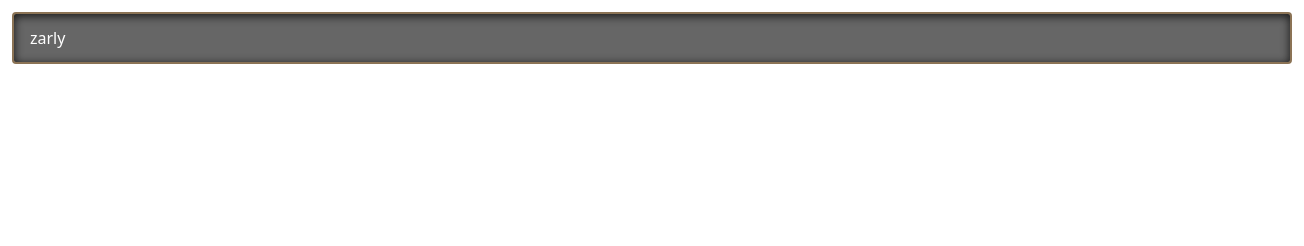
Test case: allows selecting a live suggestion with the keyboard
The width and height of the screenshot is (1304, 246).
Focus the dropdown named "Character name" at (652, 38), box [12,12,1292,64]
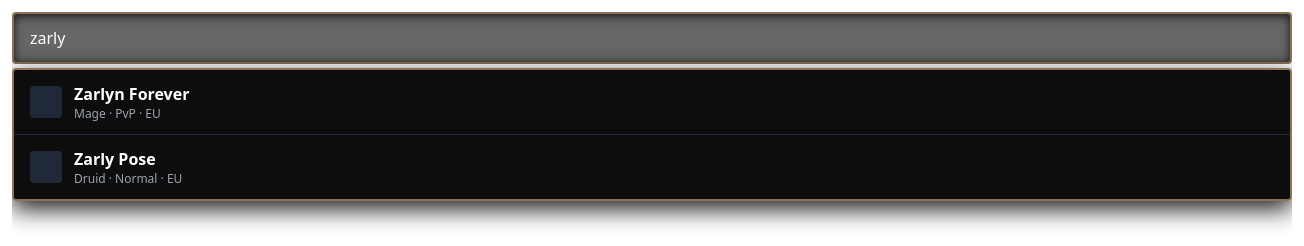
Expected: the text "Mage · PvP · EU" is shown, [74,105,161,122]
Press ArrowDown in the dropdown named "Character name", box [12,12,1292,64]
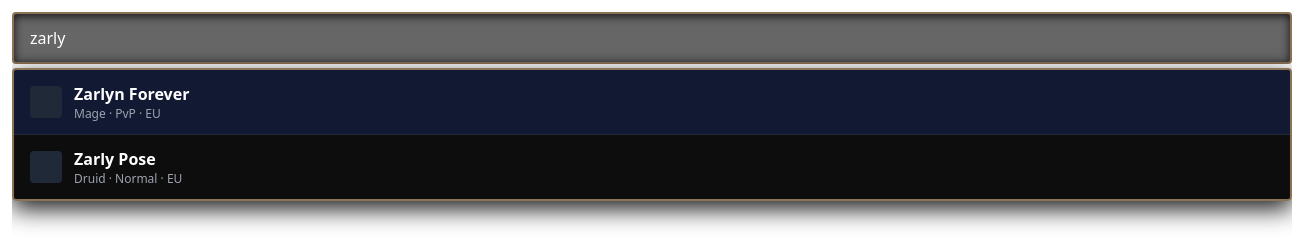
Press ArrowDown in the dropdown named "Character name", box [12,12,1292,64]
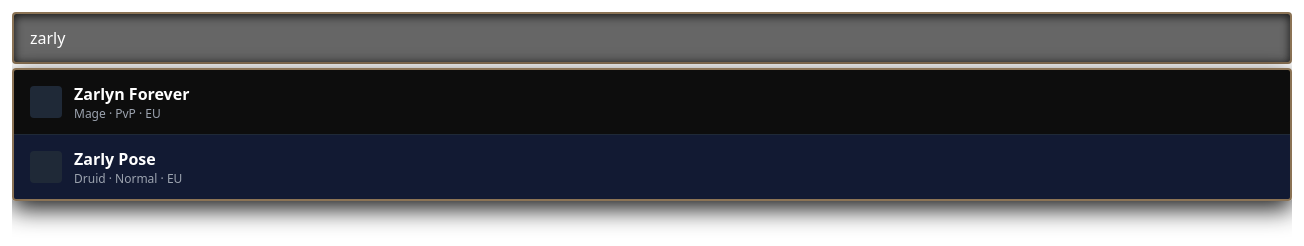
Press Enter in the dropdown named "Character name", box [12,12,1292,64]
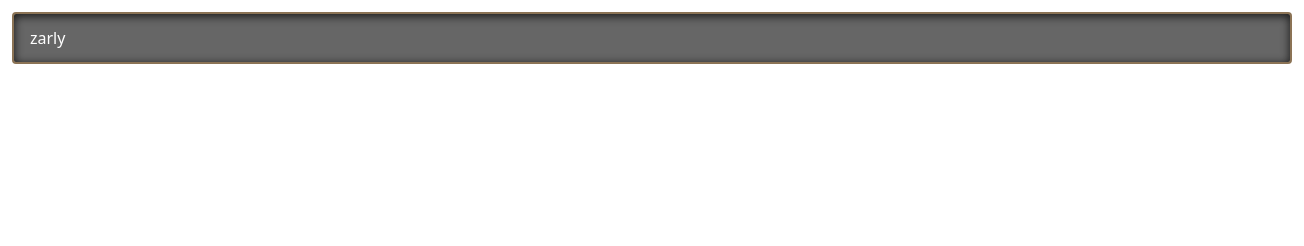
Expected: the list is gone
